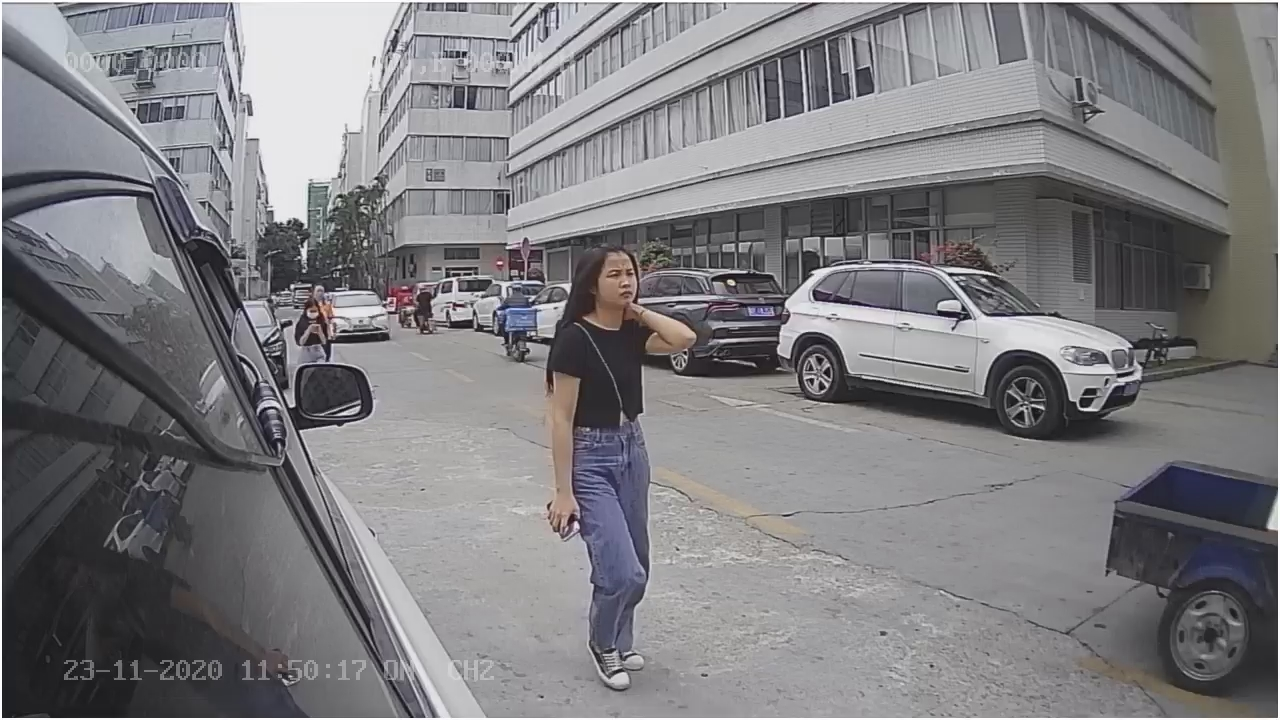person: (547, 240, 700, 687)
